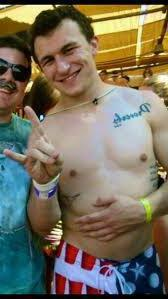Drunk: (33, 34, 95, 95)
